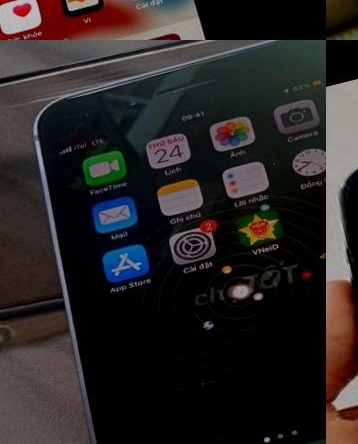scratch: (85, 285, 213, 412), (204, 426, 228, 444), (69, 103, 91, 119)
